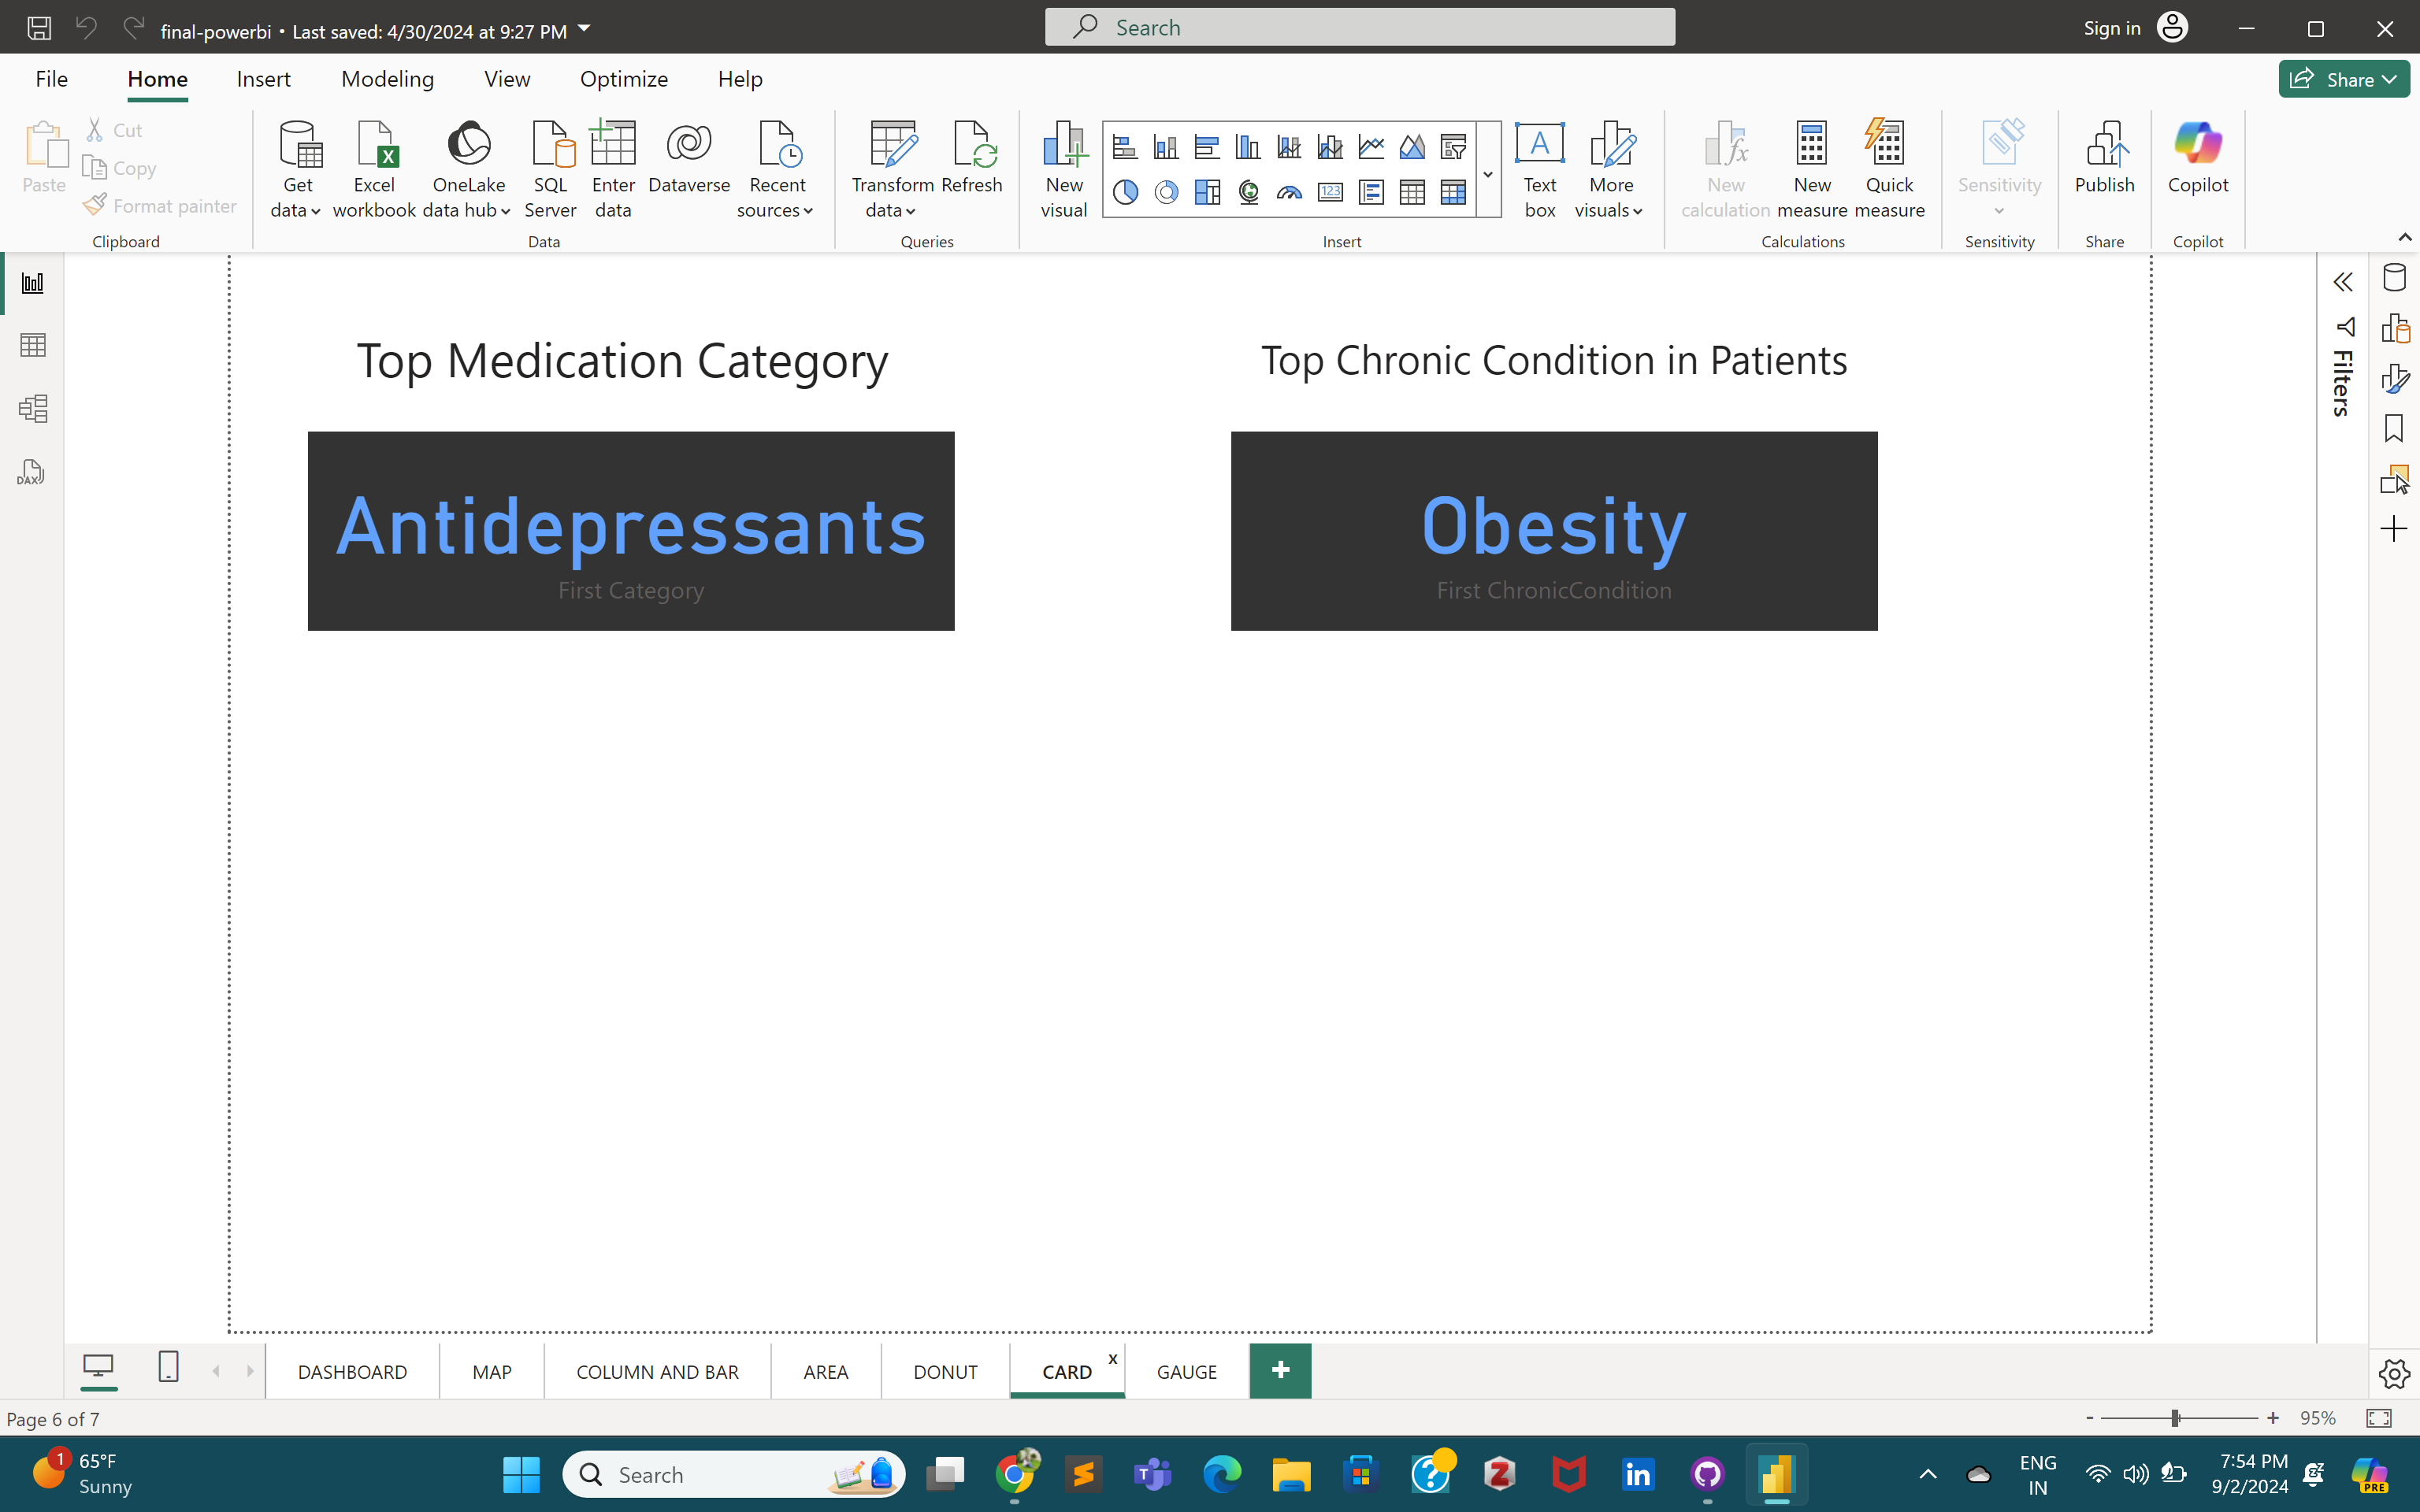

The page's visual inventory and layout, read from the dashboard file:
{"tool":"powerbi","page":{"name":"CARD","canvas":[1280,720],"ordinal":5},"visuals":[{"type":"card","fields":{"Values":["Min(Medications.Category)"]},"box":[51.4,120,431.4,132.9],"z":0},{"type":"textbox","box":[78.6,44.3,377.1,62.9],"z":1000},{"type":"card","fields":{"Values":["Min(Patients.ChronicCondition)"]},"box":[667.1,120,431.4,132.9],"z":2000},{"type":"textbox","box":[667.1,47.1,431.4,55.7],"z":3000}]}

Visuals, with their boxes on the page's 1280x720 design canvas (x1, y1, x2, y2). These are canvas units, not pixel positions in the 2420x1512 screenshot, which may show the page scaled, cropped or inside an application window:
card - Min(Medications.Category): [51, 120, 483, 253]
textbox: [79, 44, 456, 107]
card - Min(Patients.ChronicCondition): [667, 120, 1098, 253]
textbox: [667, 47, 1098, 103]
